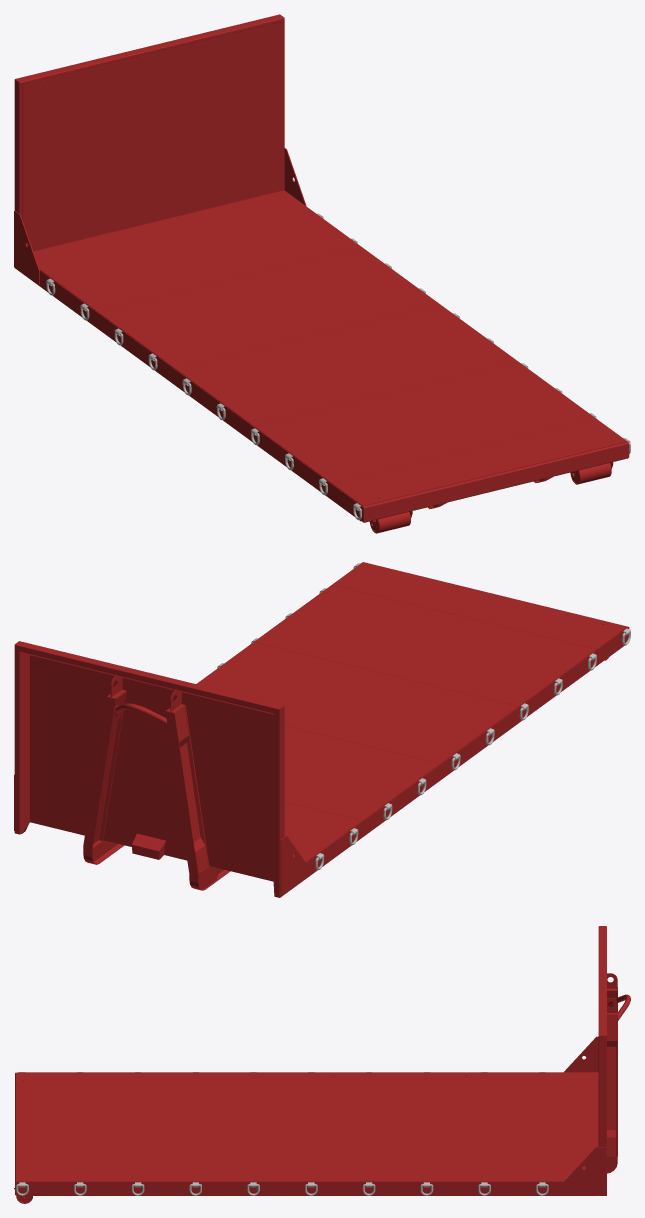
3 views of the same model, one above another, from view 1: azimuth 30°, elevation 25°; view 2: azimuth 150°, elevation 25°; view 3: azimuth 270°, elevation 25° (orthographic). The views are drawn at different scales.
Parts seen in each view (by area): view 1: Solid1 (×10), Solid2; view 2: Solid1 (×15), Solid2 (×2); view 3: Solid1 (×10), Solid2.
Boxes of the visible parts, x1,y1,x2,y2 form: Solid1 (×10): (14, 14, 629, 522); Solid2: (19, 270, 363, 521); Solid1 (×15): (14, 562, 627, 897); Solid2 (×2): (165, 628, 628, 893); Solid1 (×10): (17, 926, 617, 1195); Solid2: (15, 1182, 598, 1195).
Size of the model in its own units: 2.52 by 1.82 by 5.81.
